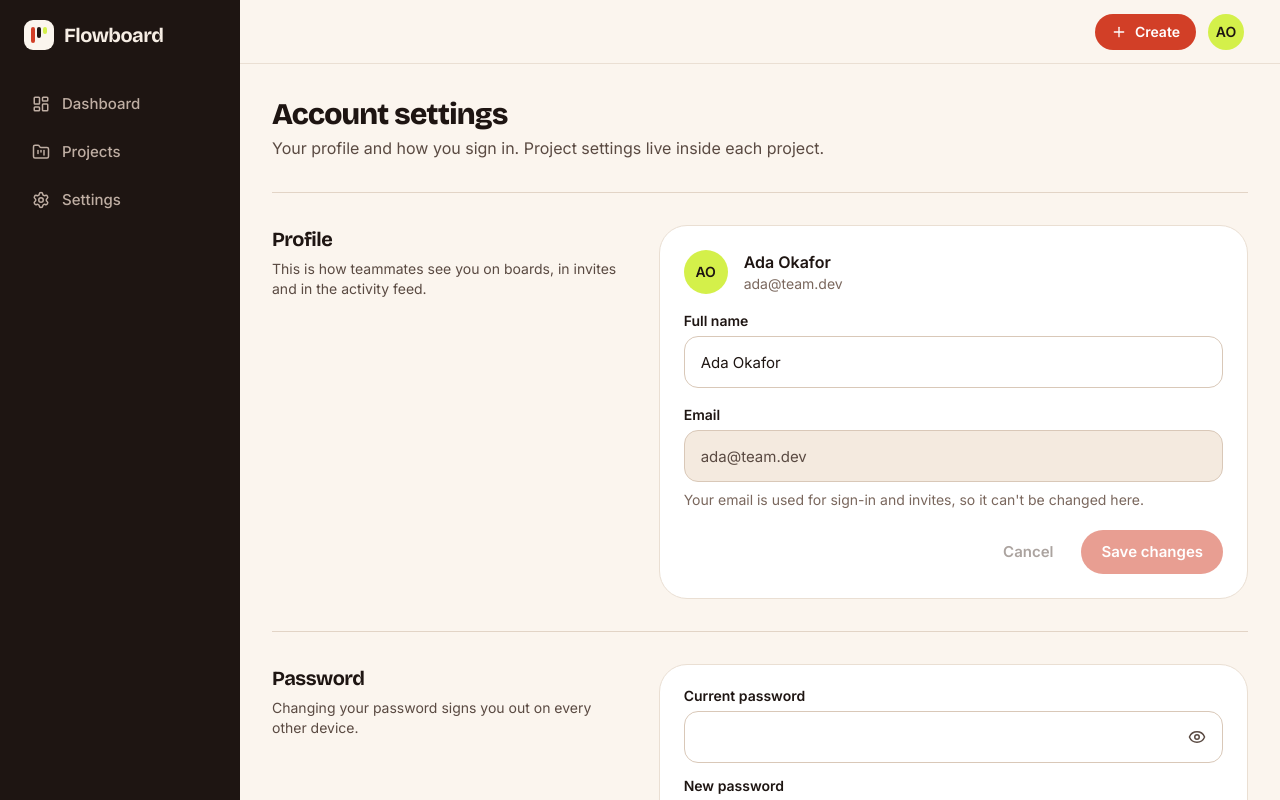
AppShell: the top bar's Create › opens New project from Account settings
Check: the heading "Account settings" is shown, box 272,96 -> 508,132
Click the button "Create".
click(1145, 32)  # box 1095,14 -> 1196,50
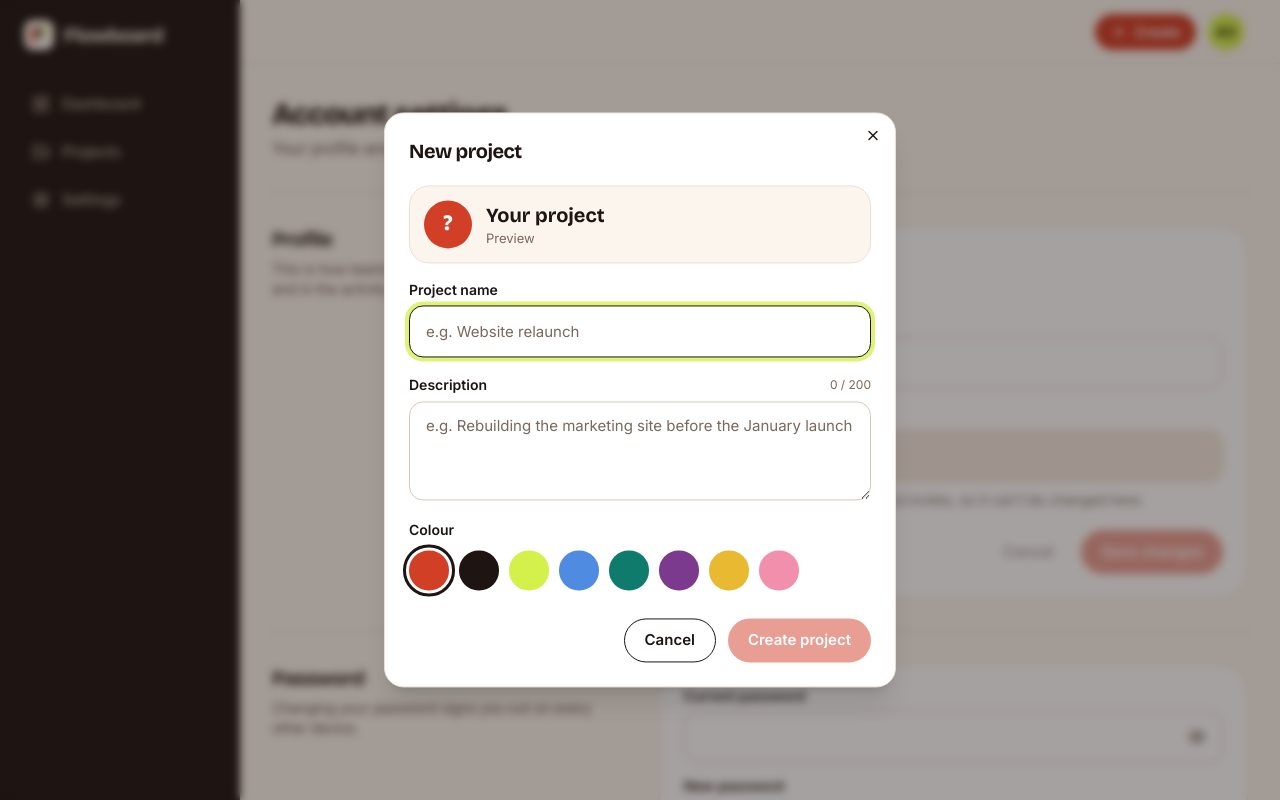
Check: the field labelled "Project name" is shown, box 409,305 -> 871,357
